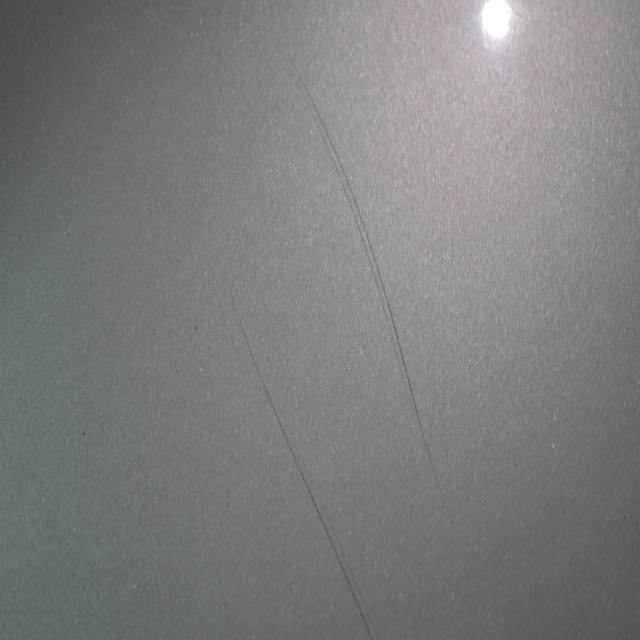scratch: (279, 39, 452, 518), (227, 282, 378, 640)
